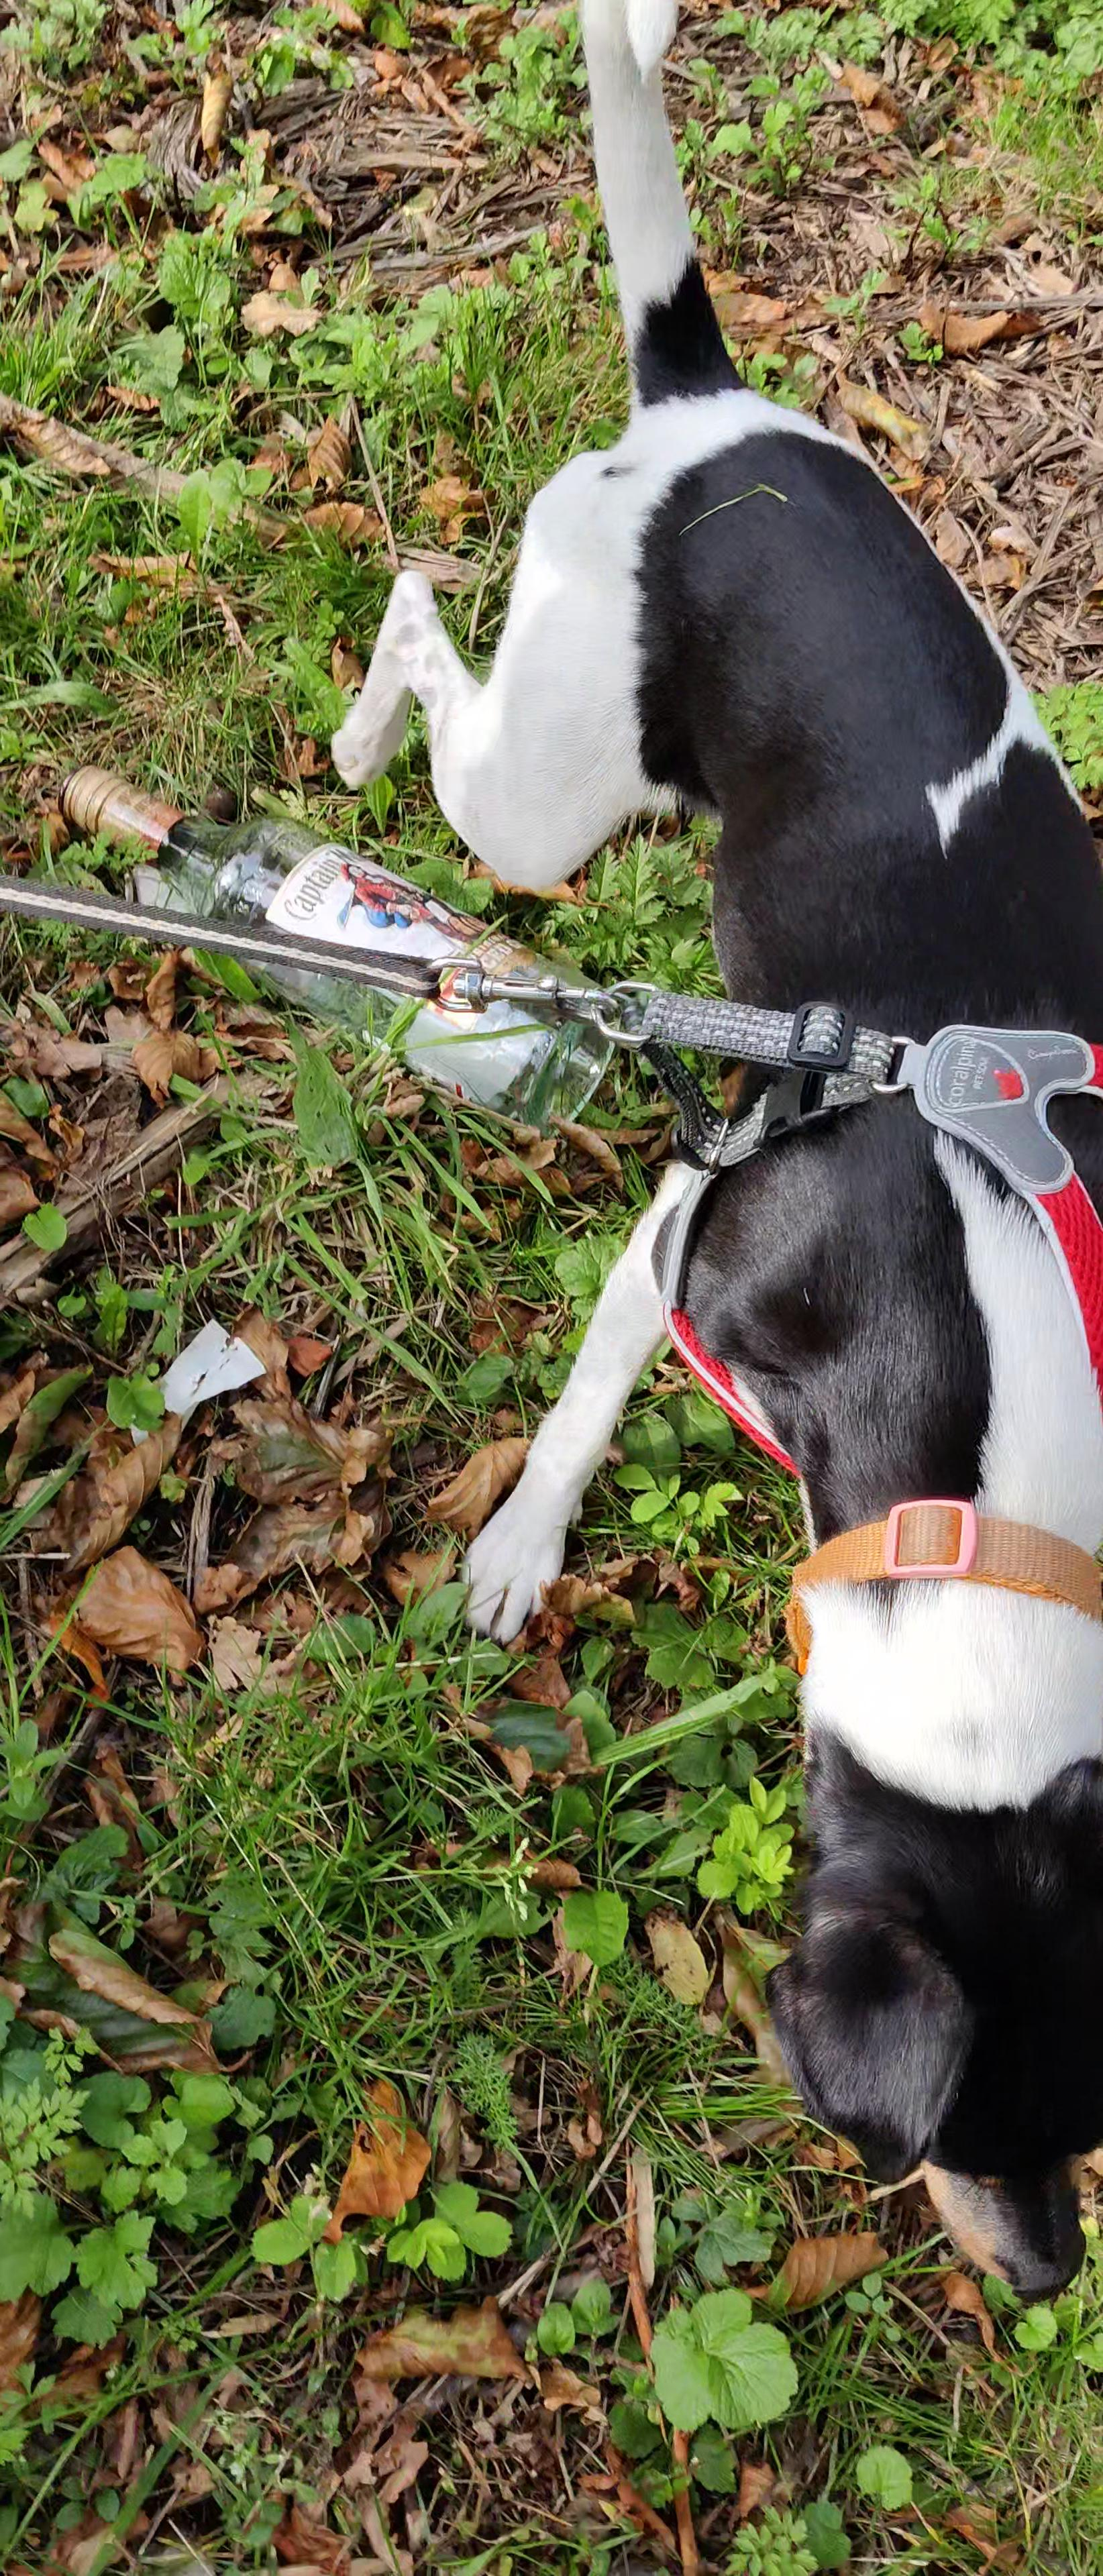Dog: (307, 0, 1103, 2313)
